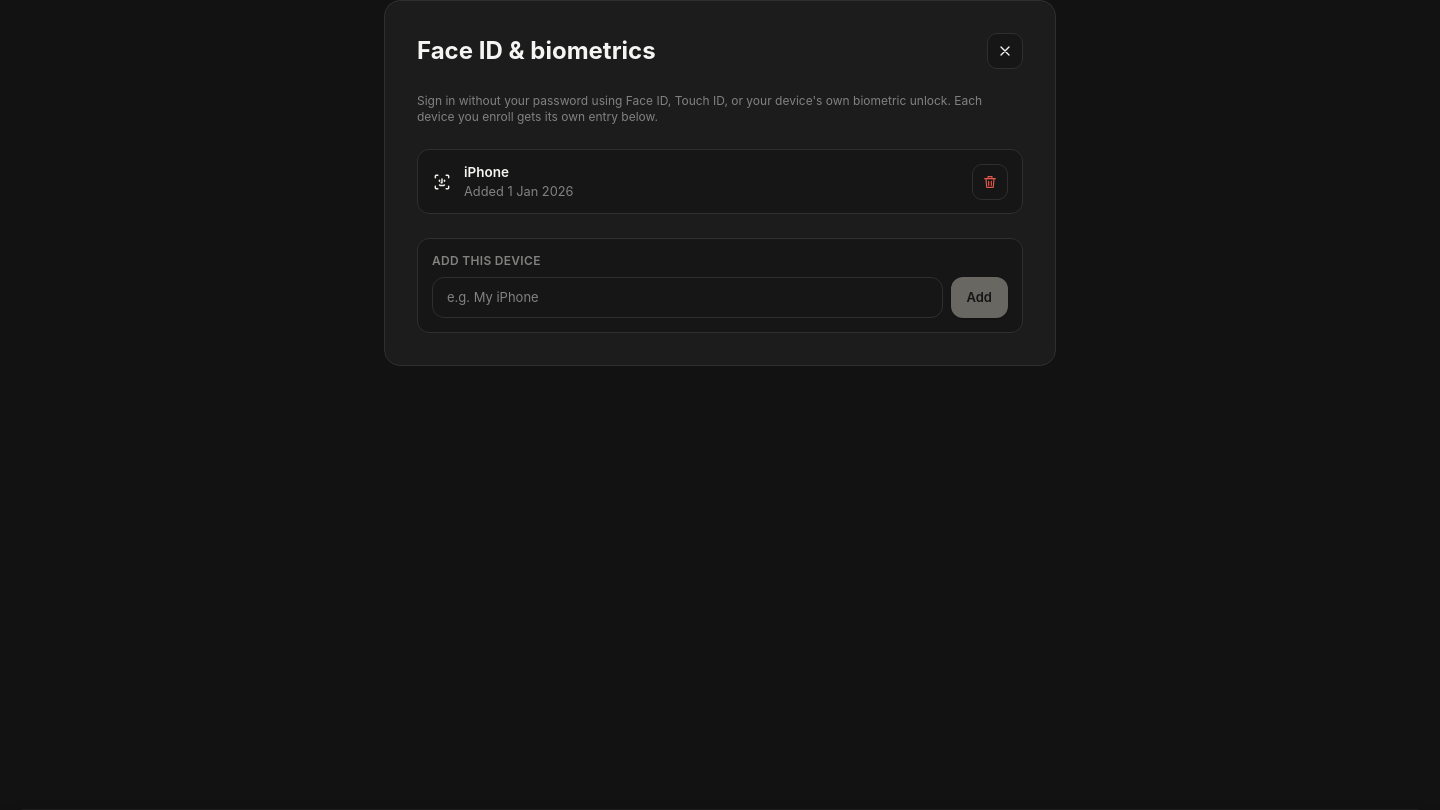
Test: SettingsPasskeysPage › shows an error and keeps the name field when the ceremony or server rejects enrollment
Expected: the text "iPhone" is shown, top-left (464, 164), bottom-right (509, 180)
Type "My iPad" into the field with placeholder "e.g. My iPhone".
click(687, 298); type("My iPad")  # box top-left (432, 277), bottom-right (942, 318)
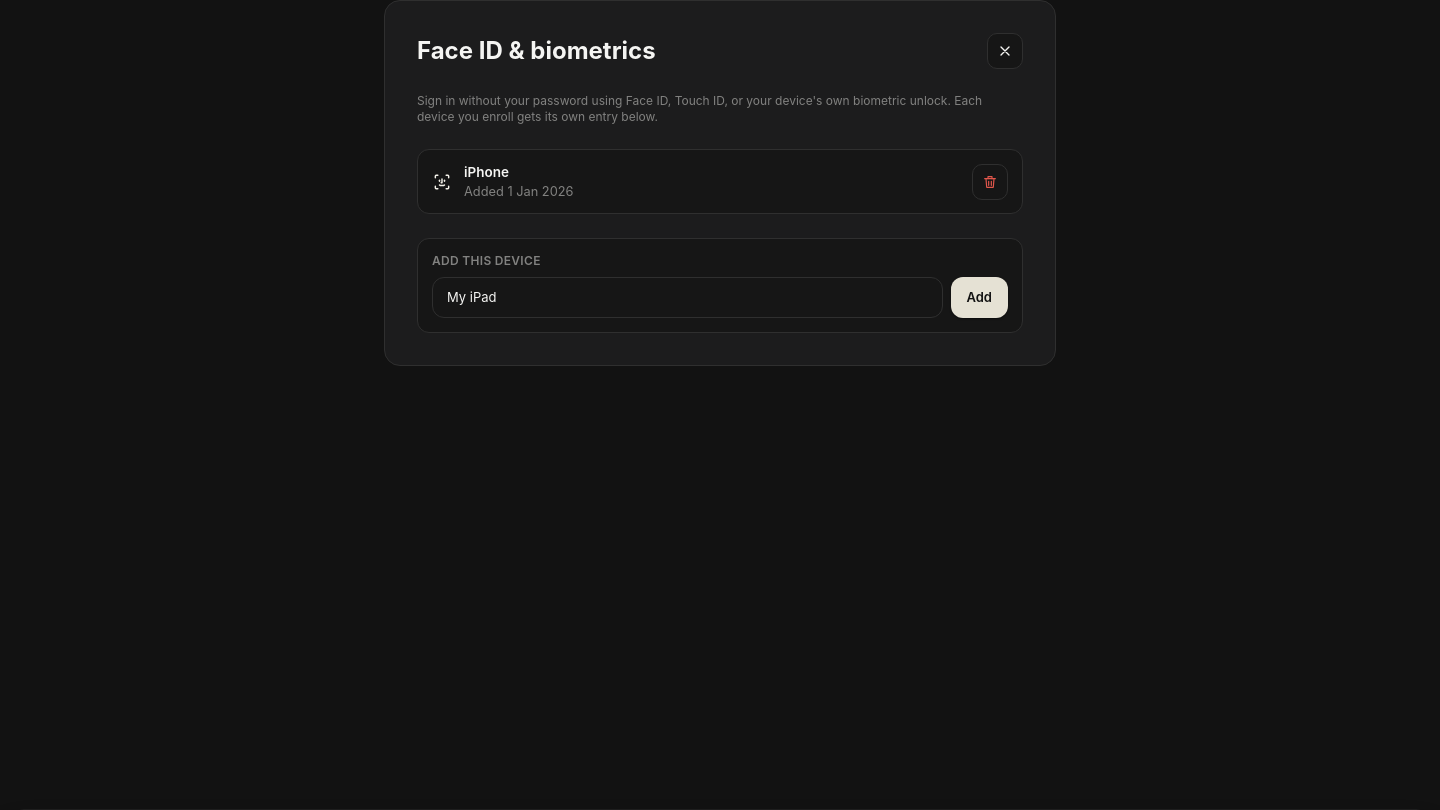
Click the button "Add".
click(979, 298)  # box top-left (950, 277), bottom-right (1008, 318)
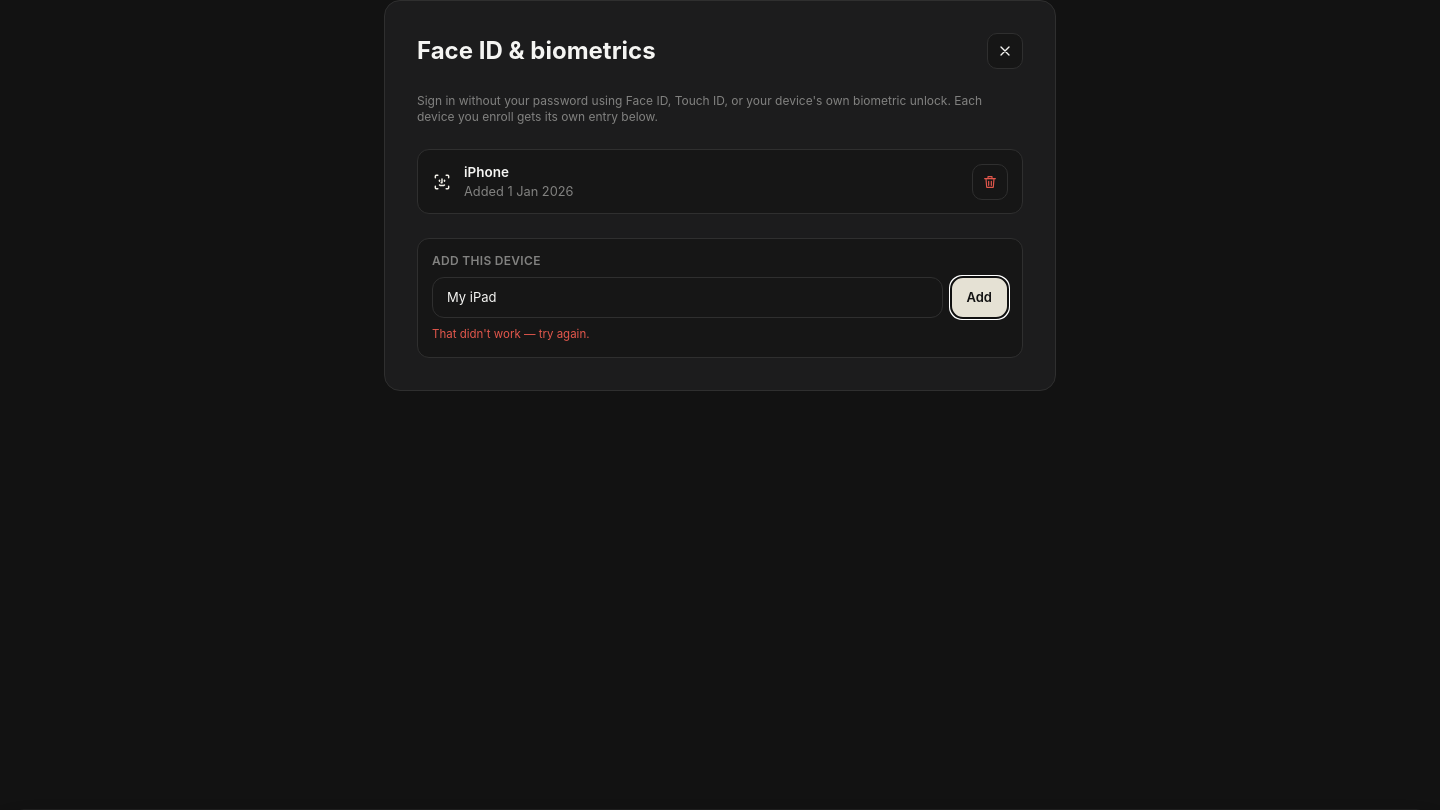
Expected: the text "That didn't work — try again." is shown, top-left (432, 327), bottom-right (590, 341)
